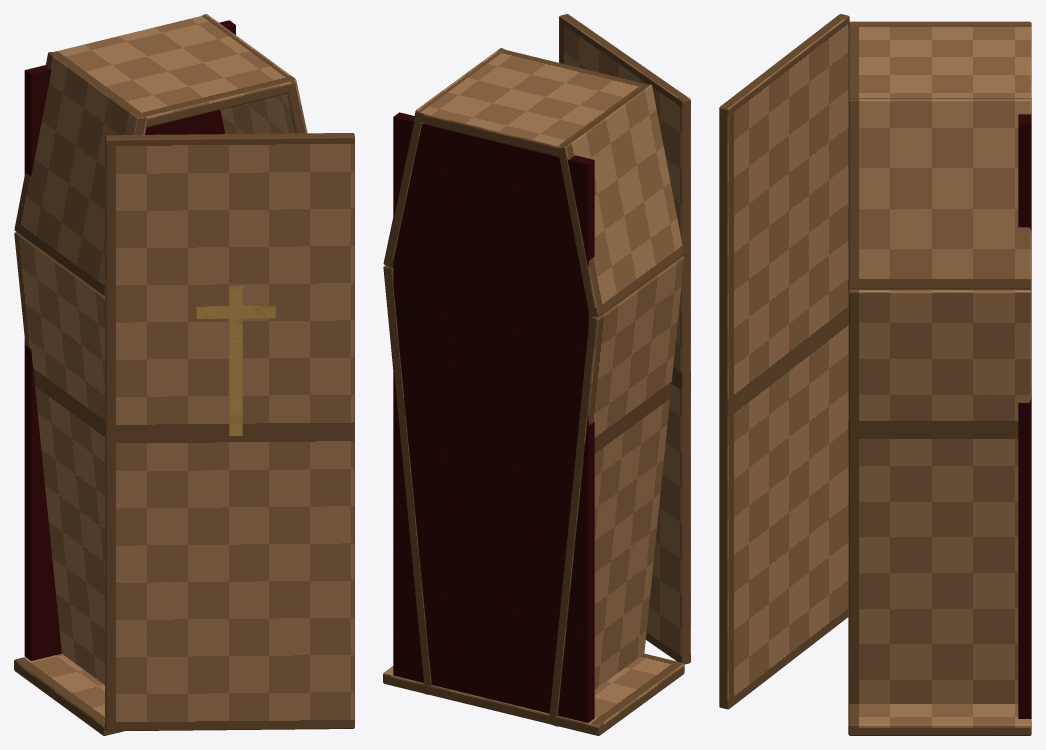
File: standingCoffin.glb
The picture shows the model from 3 angles, left to right: view 1: azimuth 30°, elevation 25°; view 2: azimuth 150°, elevation 25°; view 3: azimuth 270°, elevation 25°; orthographic projection. The views are drawn at different scales.
Visible parts, largest first — view 1: dyn_wood_variant, standingCoffin; view 2: standingCoffin, dyn_wood_variant; view 3: dyn_wood_variant, standingCoffin.
Part boxes in pixels (left/top/right/bottom): dyn_wood_variant: left=14, top=14, right=354, bottom=735; standingCoffin: left=24, top=20, right=275, bottom=660; standingCoffin: left=393, top=112, right=594, bottom=722; dyn_wood_variant: left=383, top=14, right=690, bottom=735; dyn_wood_variant: left=719, top=14, right=1031, bottom=735; standingCoffin: left=1018, top=114, right=1031, bottom=718.
Size of the model in its own units: 0.8068 by 2.06 by 0.9384.
Materials: 3 (3 with a texture image).
